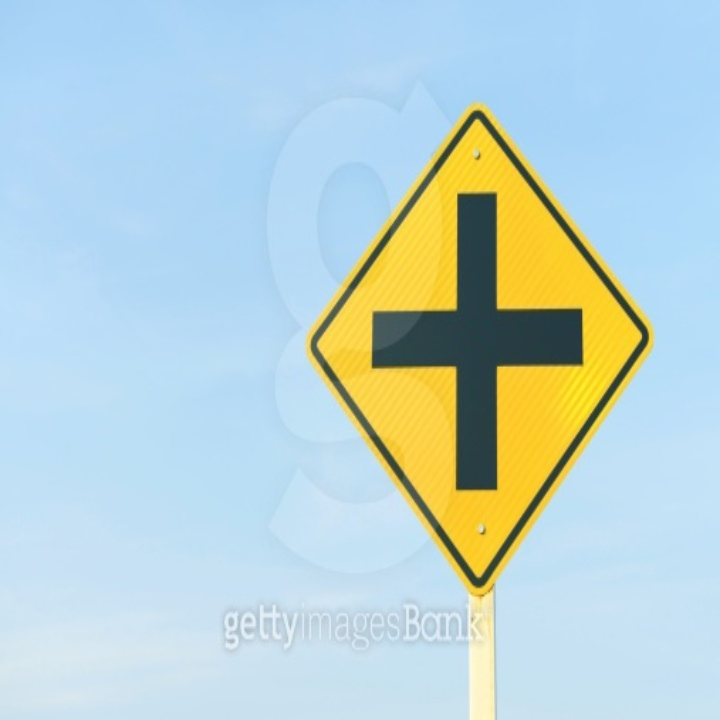inter: (365, 187, 588, 496)
